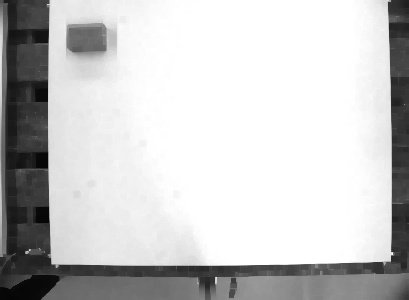b1: (64, 20, 109, 54)
